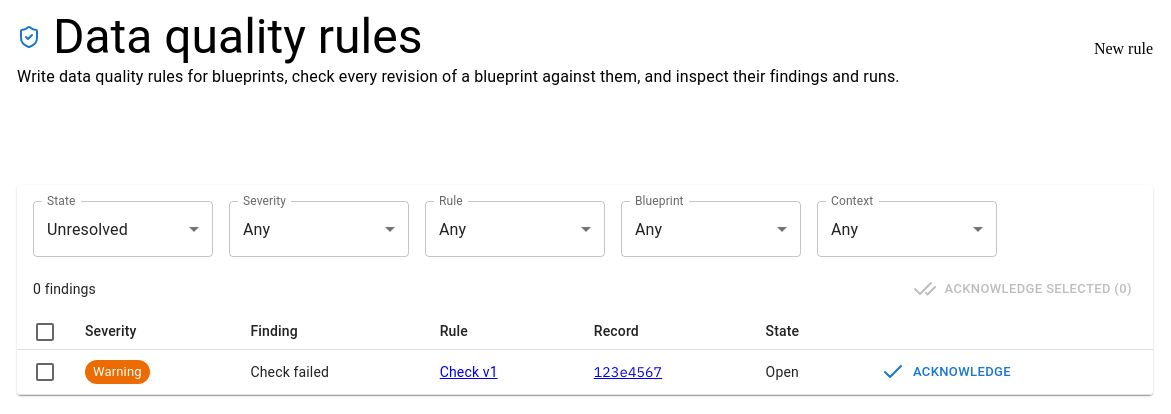
Test: RuleInspectionPage › disables acknowledgement while a finding is being updated
Click the button "Acknowledge". click: click(947, 372)
box: [878,356,1016,388]
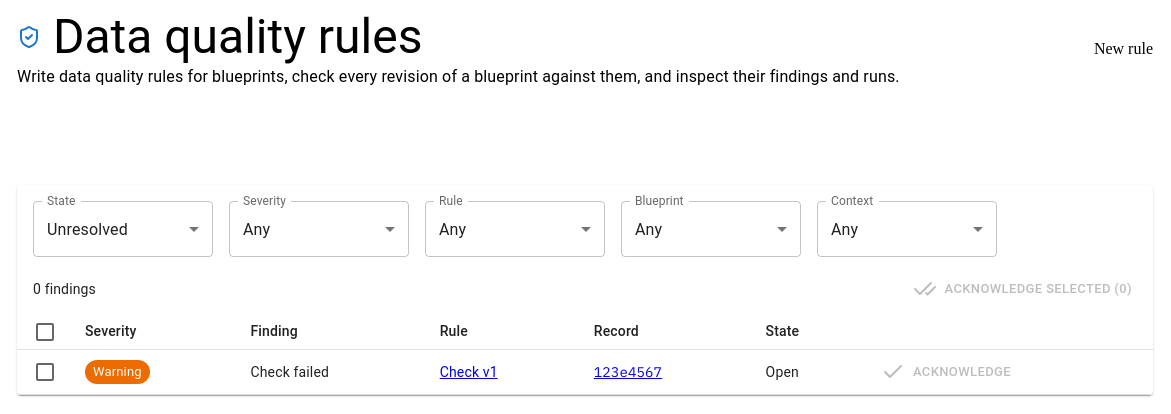
Check: the button "Acknowledge" is disabled, box [878,356,1016,388]
